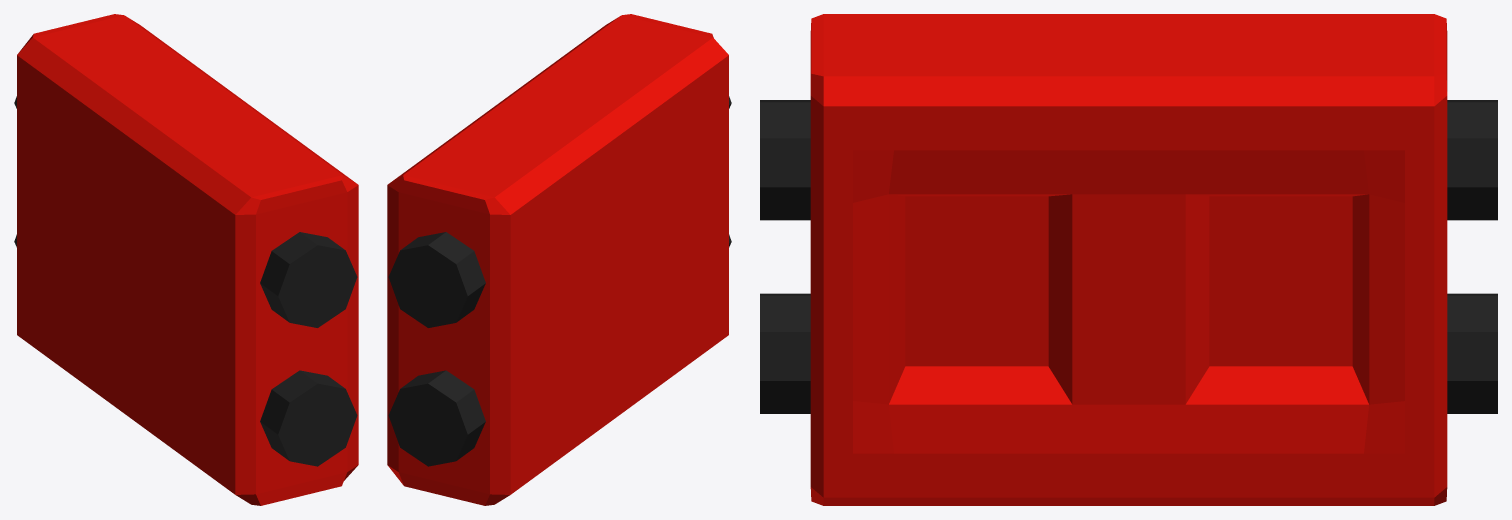
Rendered from HeightMarker.fbx.
3 views of the same model, side by side, from view 1: azimuth 30°, elevation 25°; view 2: azimuth 150°, elevation 25°; view 3: azimuth 270°, elevation 25° (orthographic). The views are drawn at different scales.
Parts seen in each view (by area): view 1: Cube, Cylinder; view 2: Cube, Cylinder; view 3: Cube, Cylinder.
Part boxes in pixels (x1,y1,x2,y2): Cube: [17, 14, 358, 505]; Cylinder: [14, 96, 357, 466]; Cube: [387, 14, 728, 505]; Cylinder: [388, 96, 731, 466]; Cube: [810, 14, 1447, 505]; Cylinder: [760, 100, 1497, 413].
Bounding box in the file's own units: 124 × 296 × 461.
